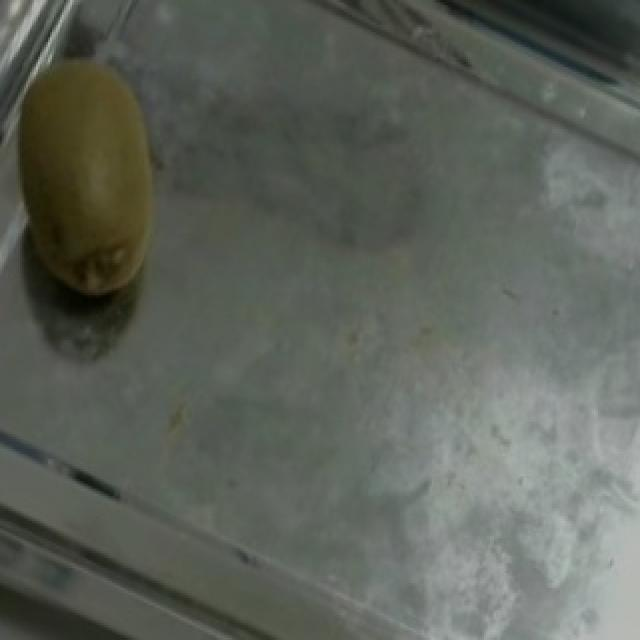Fruit: (0, 22, 208, 335)
